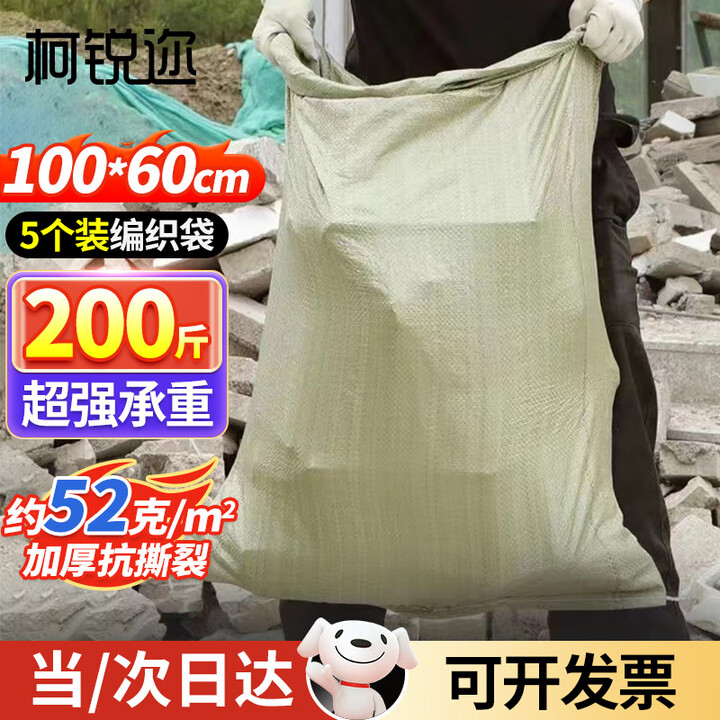塑料袋: (212, 34, 663, 608)
